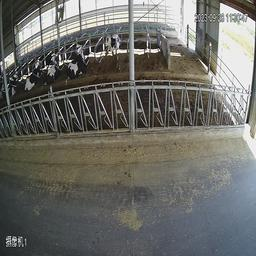cow: (65, 38, 95, 81), (100, 22, 127, 61), (20, 52, 40, 91), (1, 58, 19, 100), (42, 52, 62, 83)
